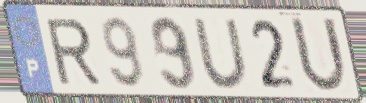2: (249, 17, 299, 92)
9: (149, 14, 198, 92), (100, 14, 147, 90)
R: (42, 16, 103, 87)
U: (287, 13, 350, 96), (190, 16, 252, 92)
